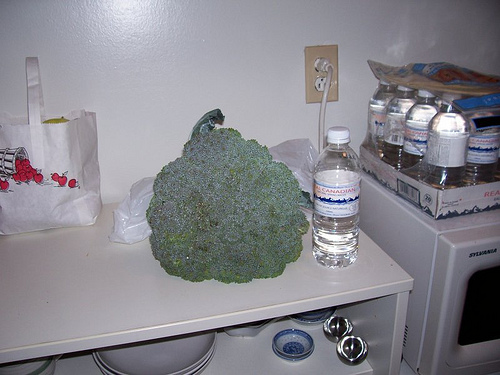broccoli: (144, 107, 312, 287)
